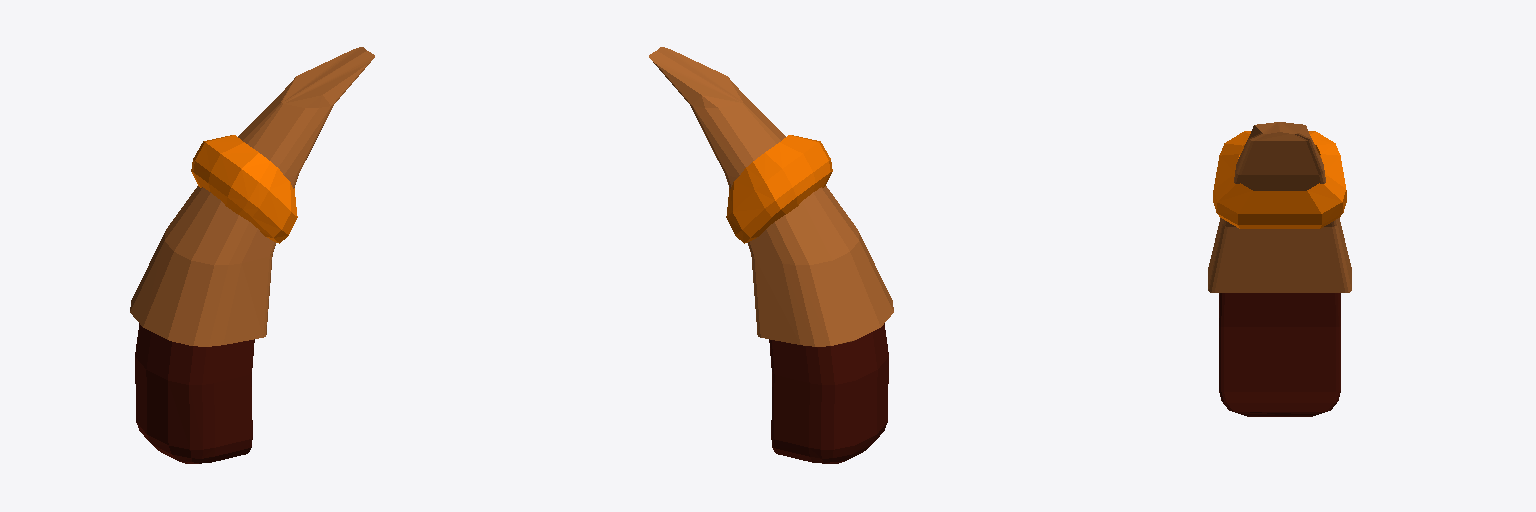
Rendered from character_explorerArmRight.obj.
The picture shows the model from 3 angles: view 1: azimuth 30°, elevation 25°; view 2: azimuth 150°, elevation 25°; view 3: azimuth 270°, elevation 25°; orthographic projection.
Parts seen in each view (by area): view 1: character_explorerArmRight_Cube.239; view 2: character_explorerArmRight_Cube.239; view 3: character_explorerArmRight_Cube.239.
Boxes of the visible parts, x1,y1,x2,y2 form: character_explorerArmRight_Cube.239: [130, 47, 374, 463]; character_explorerArmRight_Cube.239: [649, 47, 893, 463]; character_explorerArmRight_Cube.239: [1208, 122, 1351, 416].
Bounding box in the file's own units: 0.3786 × 0.5708 × 0.2086.